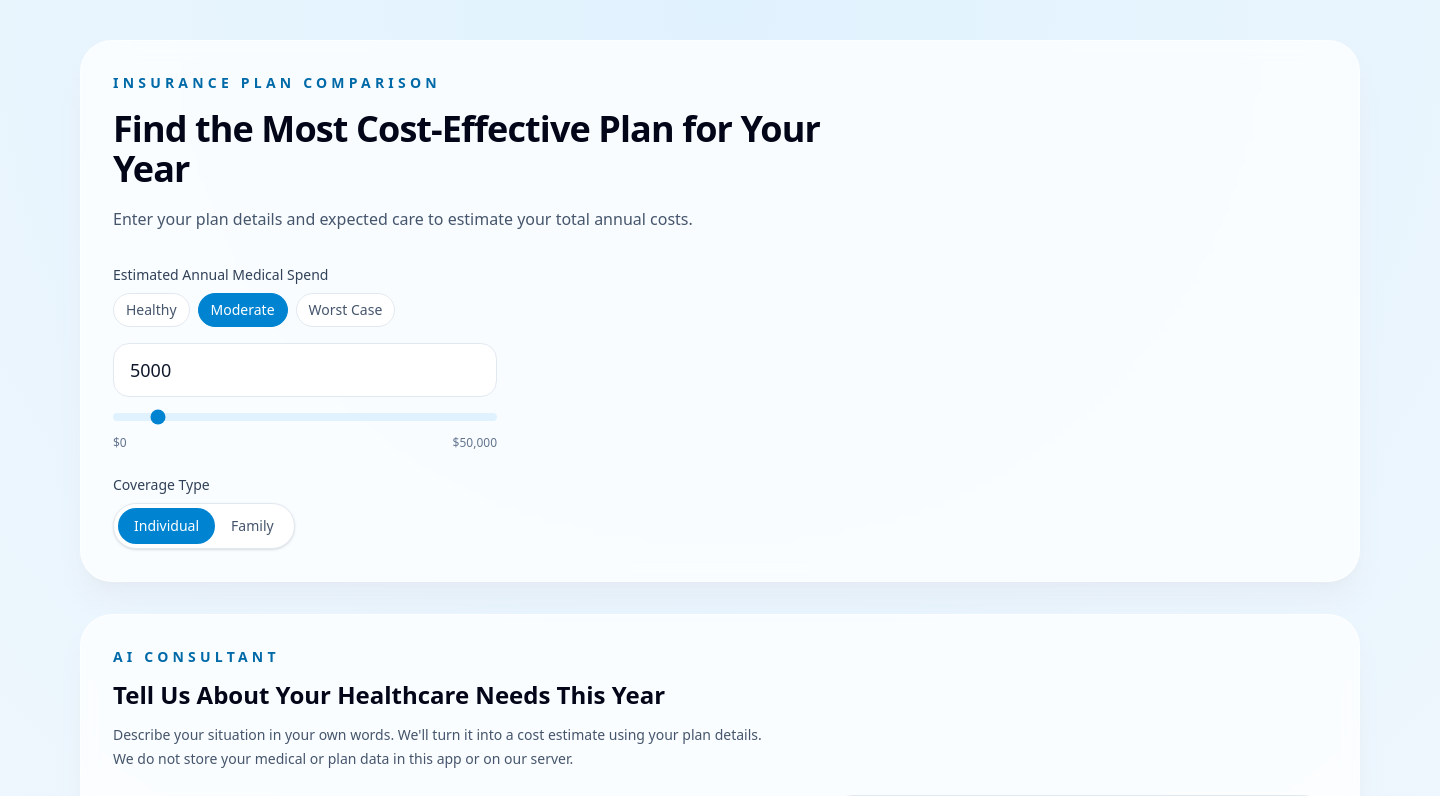
Test case: App integration › clicking Healthy sets annual medical spend to 500
This screenshot has width=1440, height=796.
Click the button with aria-label "Healthy:": (151, 310) [113,293,190,327]
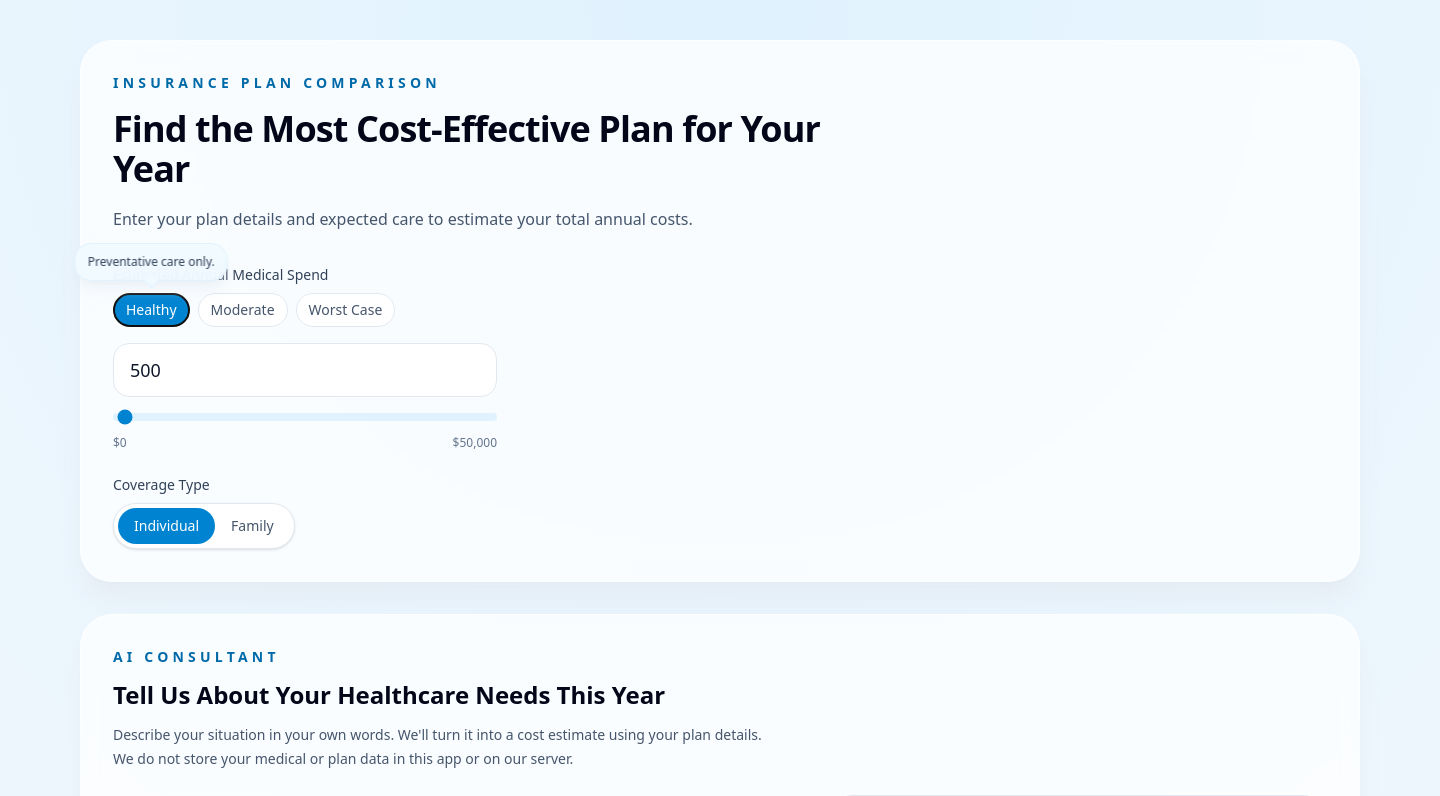
expect the number field labelled "Estimated Annual Medical Spend" holds "500": met, box [113,343,497,397]
